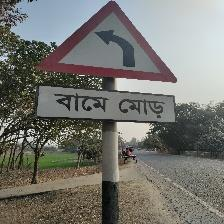Left-Turn: (33, 0, 179, 125)
